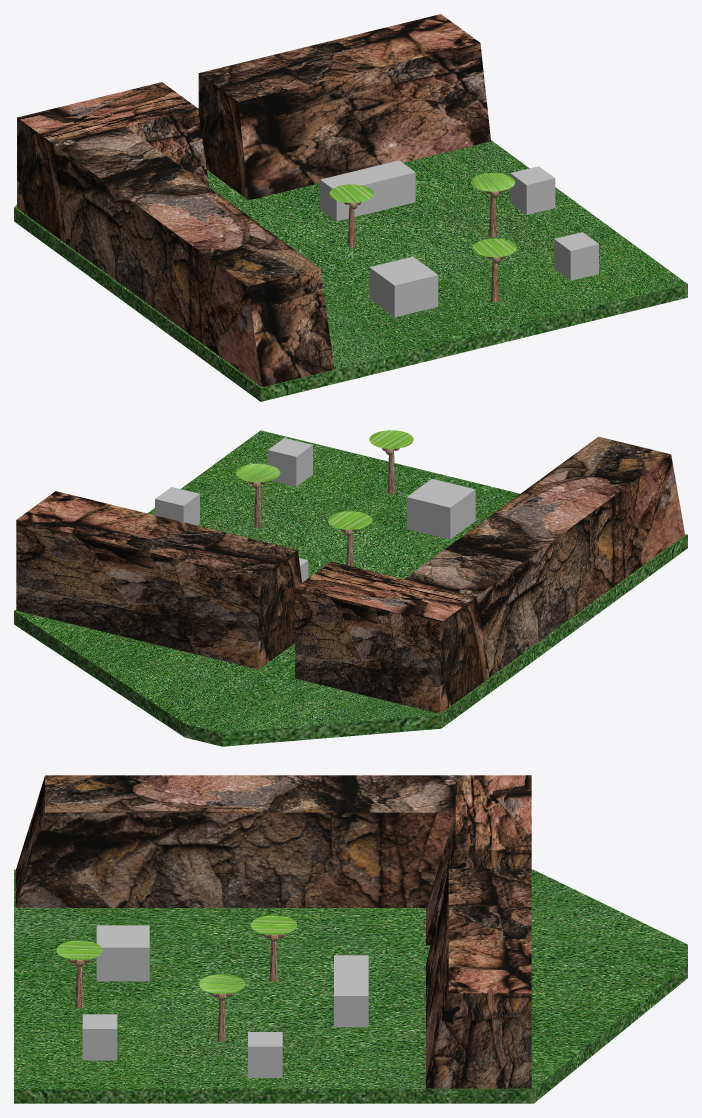
The model's file is Mapworkshop3.1.fbx.
The picture shows the model from 3 angles, top to bottom: view 1: azimuth 30°, elevation 25°; view 2: azimuth 150°, elevation 25°; view 3: azimuth 270°, elevation 25°; orthographic projection. The views are drawn at different scales.
Parts seen in each view (by area): view 1: Ground, Wall Back, Wall right, Box1, Box3, Box2, Box4, Palmtree1, PAlmtree 3, Palmtree2; view 2: Wall Back, Ground, Wall right, Box3, Box2, Box4, Palmtree1, Palmtree2, PAlmtree 3; view 3: Ground, Wall Back, Wall right, Box3, Box1, Box2, Box4, Palmtree1, Palmtree2, PAlmtree 3.
Part boxes in pixels (bbox=[...]): Ground: bbox=[14, 108, 687, 401]; Wall Back: bbox=[17, 82, 334, 387]; Wall right: bbox=[198, 14, 490, 200]; Box1: bbox=[320, 160, 415, 221]; Box3: bbox=[369, 256, 438, 317]; Box2: bbox=[554, 232, 598, 280]; Box4: bbox=[510, 166, 555, 214]; Palmtree1: bbox=[472, 238, 516, 302]; PAlmtree 3: bbox=[329, 184, 373, 247]; Palmtree2: bbox=[471, 173, 515, 236]; Wall Back: bbox=[295, 436, 684, 713]; Ground: bbox=[14, 430, 687, 746]; Wall right: bbox=[16, 491, 301, 669]; Box3: bbox=[406, 479, 475, 539]; Box2: bbox=[268, 438, 312, 486]; Box4: bbox=[155, 487, 199, 525]; Palmtree1: bbox=[369, 430, 413, 494]; Palmtree2: bbox=[236, 463, 280, 527]; PAlmtree 3: bbox=[328, 511, 372, 566]; Ground: bbox=[14, 869, 687, 1103]; Wall Back: bbox=[15, 775, 531, 945]; Wall right: bbox=[426, 868, 531, 1088]; Box3: bbox=[96, 925, 149, 981]; Box1: bbox=[334, 955, 368, 1027]; Box2: bbox=[82, 1014, 117, 1060]; Box4: bbox=[248, 1032, 282, 1077]; Palmtree1: bbox=[56, 940, 102, 1007]; Palmtree2: bbox=[198, 974, 245, 1041]; PAlmtree 3: bbox=[250, 915, 297, 981].
Bounding box in the file's own units: 3000 × 699 × 3890.
